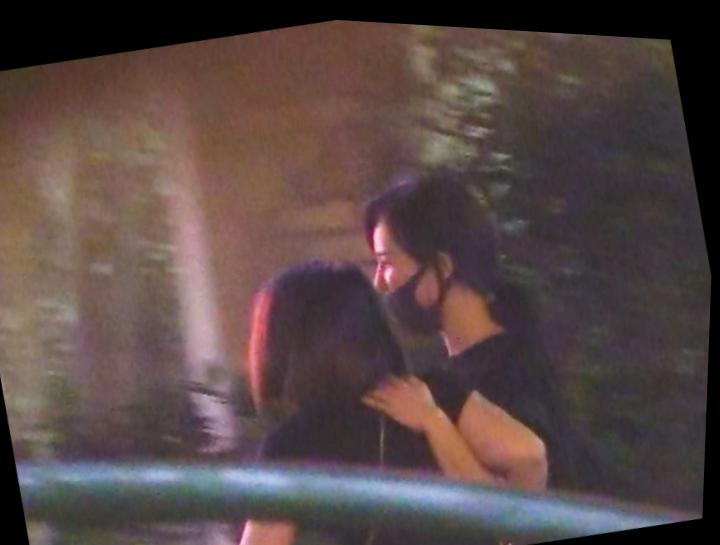WRONG: (360, 219, 456, 341)
